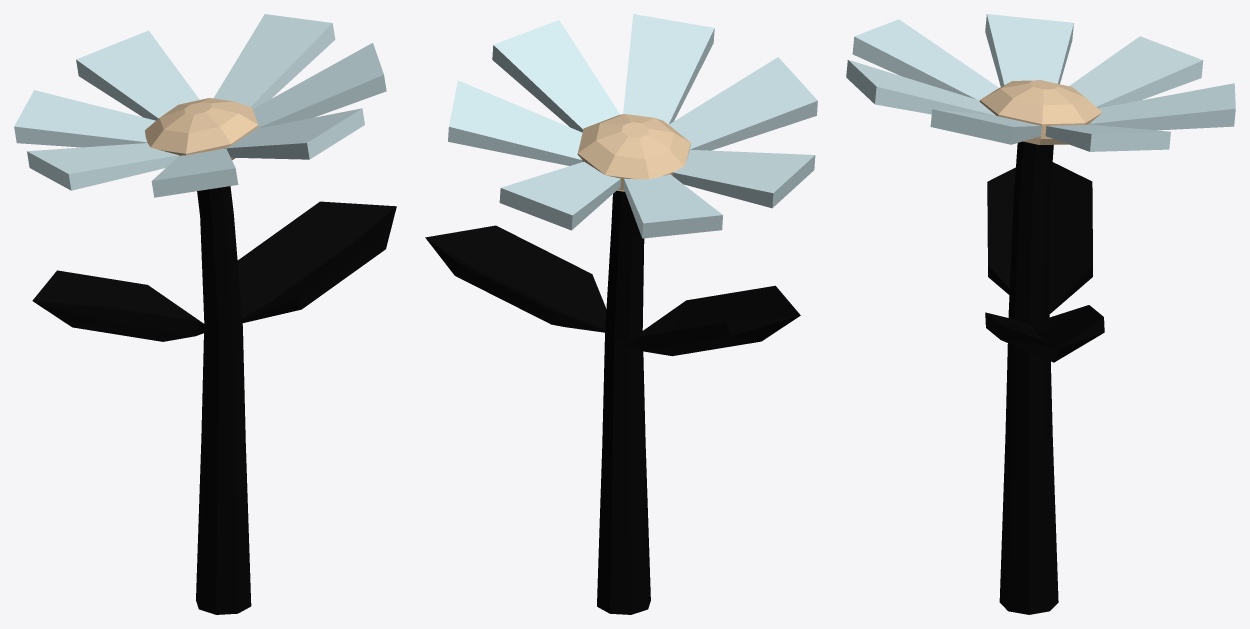
File: Flower_2_White.fbx
The picture shows the model from 3 angles, left to right: view 1: azimuth 30°, elevation 25°; view 2: azimuth 150°, elevation 25°; view 3: azimuth 270°, elevation 25°; orthographic projection. The views are drawn at different scales.
Parts seen in each view (by area): view 1: Flower_2_White; view 2: Flower_2_White; view 3: Flower_2_White.
Boxes of the visible parts, x1,y1,x2,y2 form: Flower_2_White: (14,14,396,614); Flower_2_White: (425,14,817,614); Flower_2_White: (846,14,1235,614).
Size of the model in its own units: 0.0991 by 0.1353 by 0.0868.
